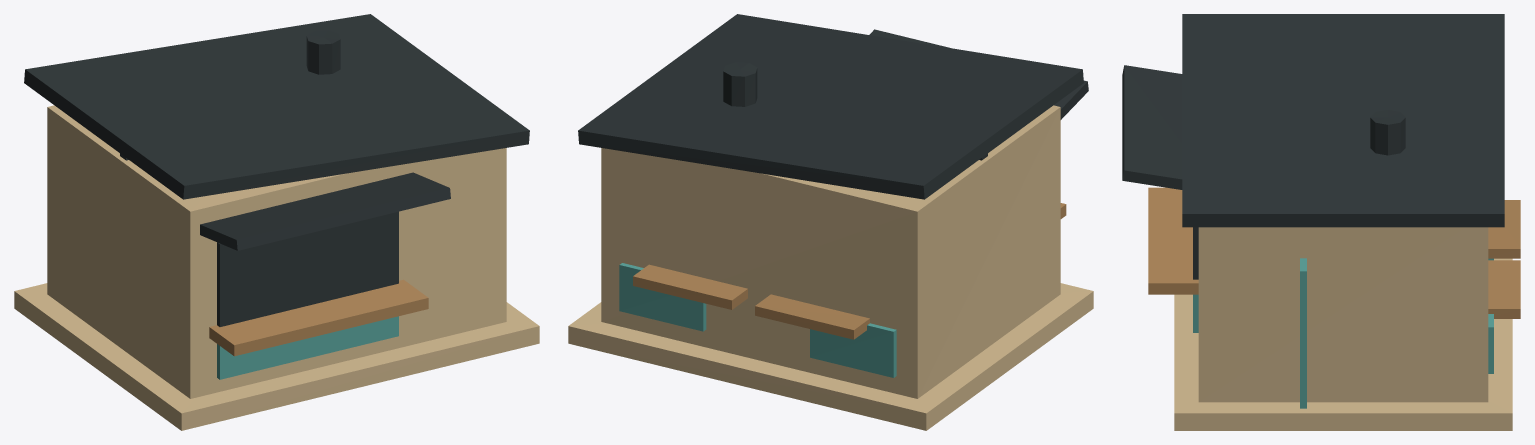
Rendered from Cafe.glb.
3 renders of one model, left to right at view 1: azimuth 30°, elevation 25°; view 2: azimuth 150°, elevation 25°; view 3: azimuth 270°, elevation 25°, orthographic.
Parts seen in each view (by area): view 1: cafe-static-cafe-charcoal-roof-and-frame, cafe-static-cafe-cream-walls, cafe-static-cafe-pale-stone, cafe-static-cafe-warm-timber-counters, cafe-static-cafe-muted-teal-panels-and-door; view 2: cafe-static-cafe-cream-walls, cafe-static-cafe-charcoal-roof-and-frame, cafe-static-cafe-pale-stone, cafe-static-cafe-muted-teal-panels-and-door, cafe-static-cafe-warm-timber-counters; view 3: cafe-static-cafe-charcoal-roof-and-frame, cafe-static-cafe-cream-walls, cafe-static-cafe-pale-stone, cafe-static-cafe-warm-timber-counters, cafe-static-cafe-muted-teal-panels-and-door.
Part boxes in pixels (x1=…): cafe-static-cafe-charcoal-roof-and-frame: x1=24, y1=14, x2=529, y2=326; cafe-static-cafe-cream-walls: x1=47, y1=105, x2=506, y2=398; cafe-static-cafe-pale-stone: x1=14, y1=283, x2=539, y2=430; cafe-static-cafe-warm-timber-counters: x1=209, y1=279, x2=428, y2=356; cafe-static-cafe-muted-teal-panels-and-door: x1=217, y1=316, x2=398, y2=379; cafe-static-cafe-cream-walls: x1=601, y1=105, x2=1060, y2=398; cafe-static-cafe-charcoal-roof-and-frame: x1=578, y1=14, x2=1088, y2=199; cafe-static-cafe-pale-stone: x1=568, y1=283, x2=1093, y2=430; cafe-static-cafe-muted-teal-panels-and-door: x1=619, y1=263, x2=896, y2=377; cafe-static-cafe-warm-timber-counters: x1=633, y1=203, x2=1066, y2=339; cafe-static-cafe-charcoal-roof-and-frame: x1=1122, y1=14, x2=1504, y2=279; cafe-static-cafe-cream-walls: x1=1198, y1=227, x2=1488, y2=402; cafe-static-cafe-pale-stone: x1=1174, y1=258, x2=1512, y2=430; cafe-static-cafe-warm-timber-counters: x1=1148, y1=187, x2=1520, y2=318; cafe-static-cafe-muted-teal-panels-and-door: x1=1193, y1=258, x2=1493, y2=408.
Size of the model in its own units: 4.77 by 3.21 by 4.47.
